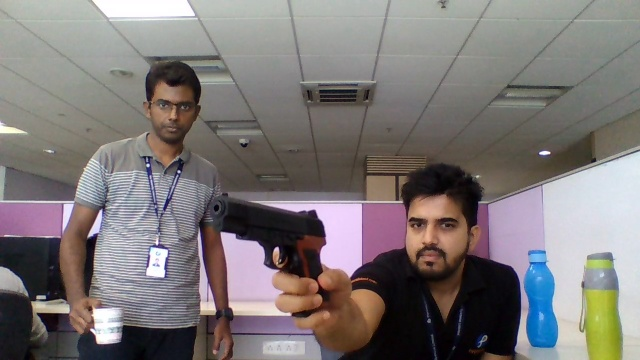gun: (210, 194, 327, 276)
